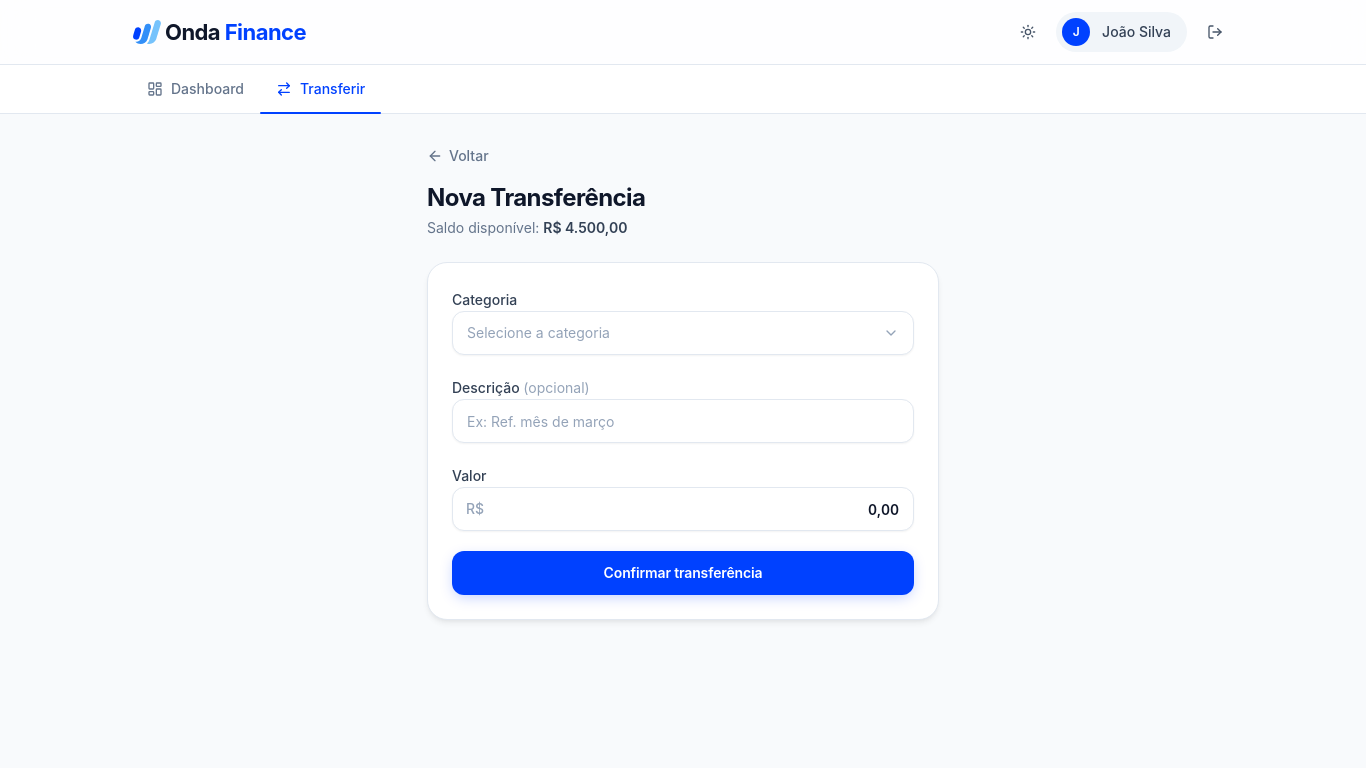
Test: Transfer Page › should show error for insufficient balance
# Select category
Step 1. Click the dropdown labelled "Selecione a categoria" → (538, 332), box [452, 311, 914, 355]
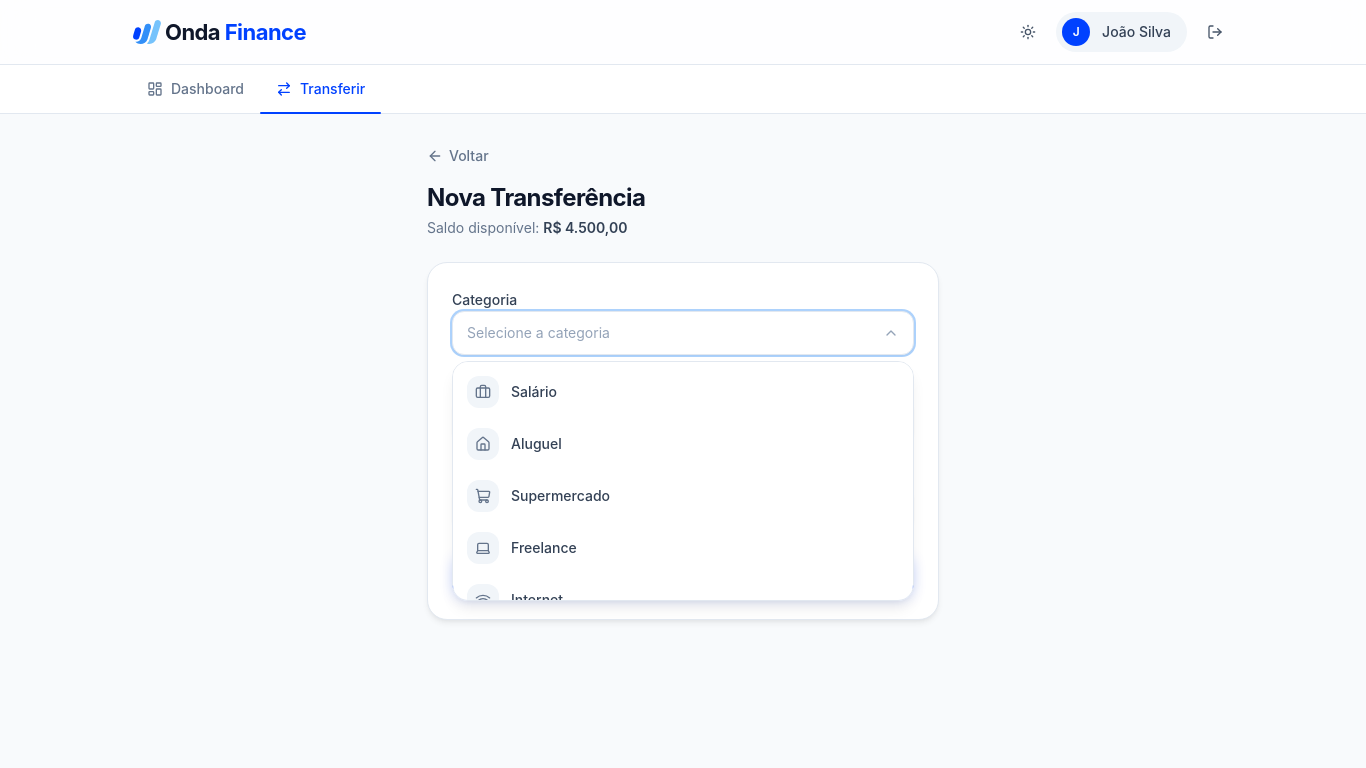
Step 2. Click the option "Supermercado" → (538, 496), box [467, 480, 610, 512]
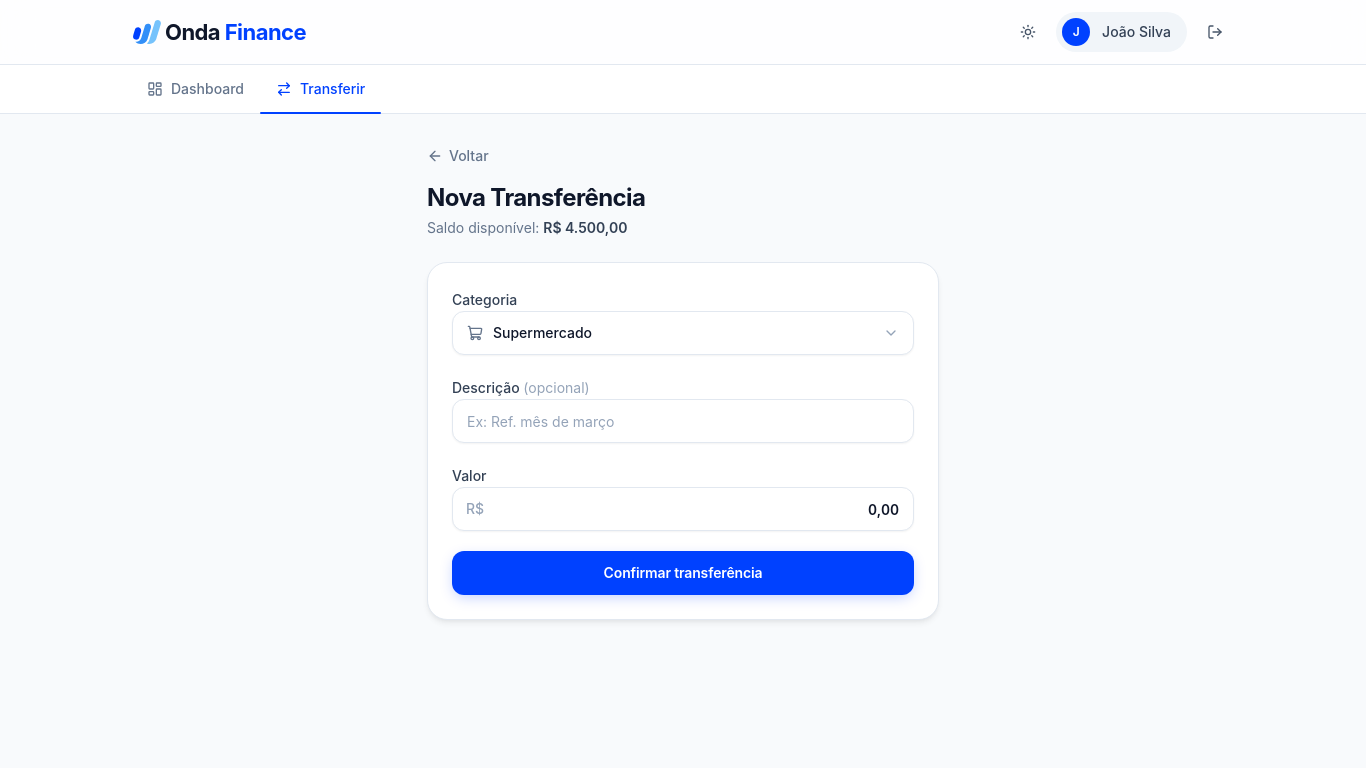
# Enter amount
Step 3. Click the field labelled "Valor" → (683, 509), box [452, 487, 914, 531]
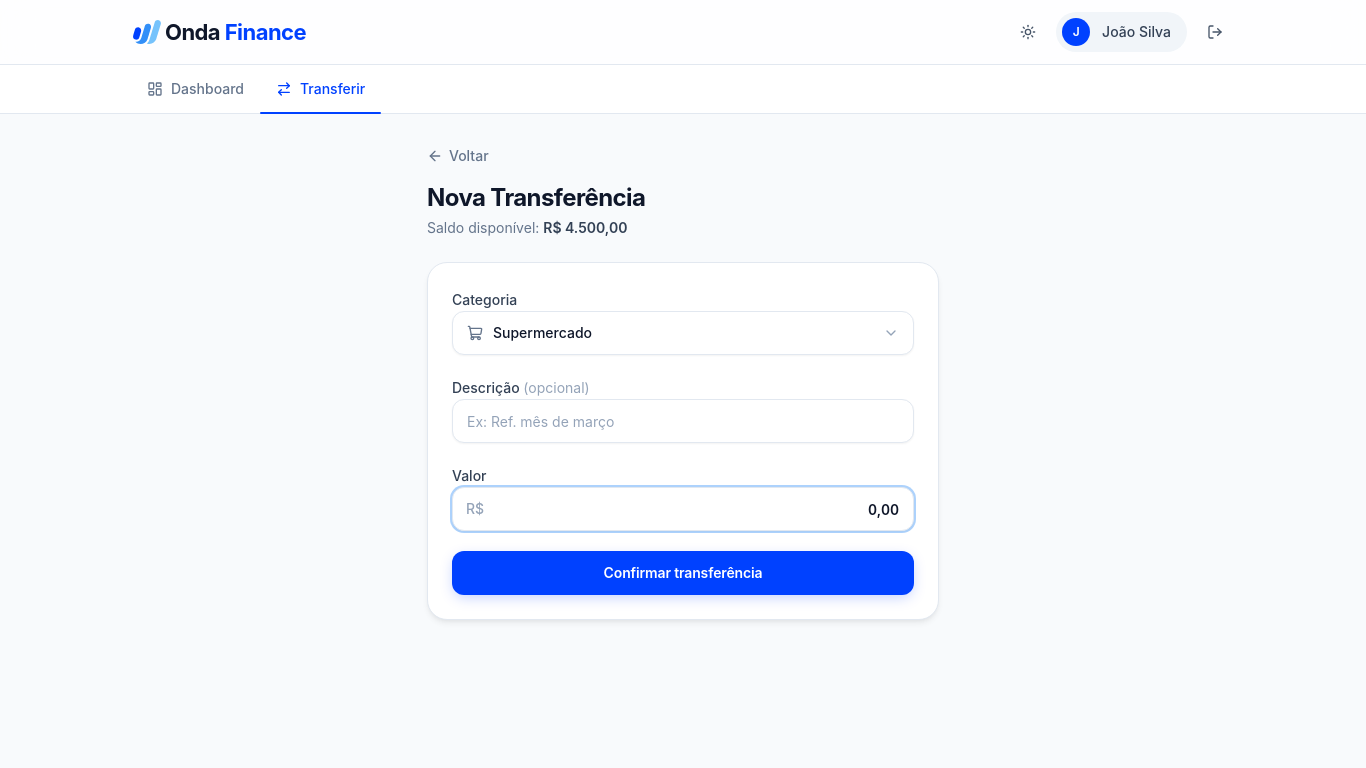
Step 4. Type keys "5000000"
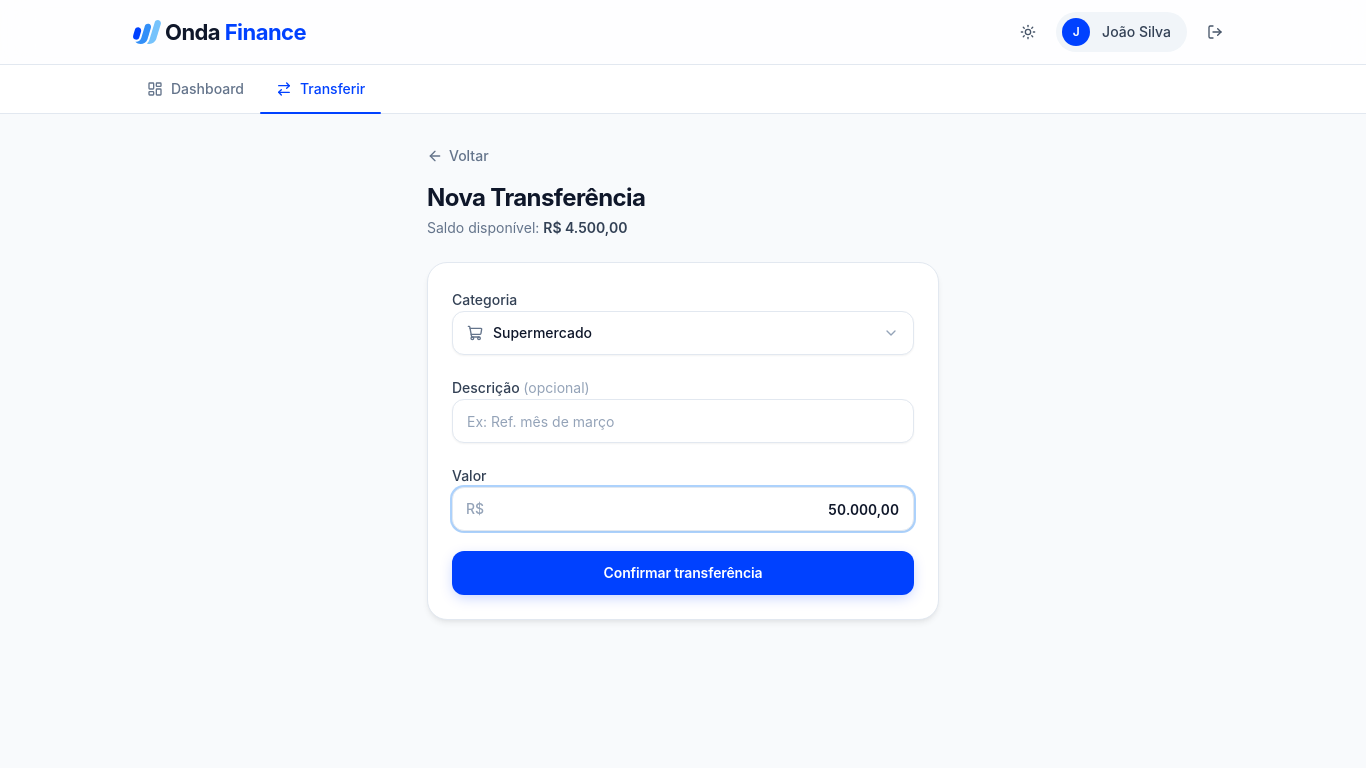
Step 5. Click the button "Confirmar transferência" → (683, 573), box [452, 551, 914, 595]
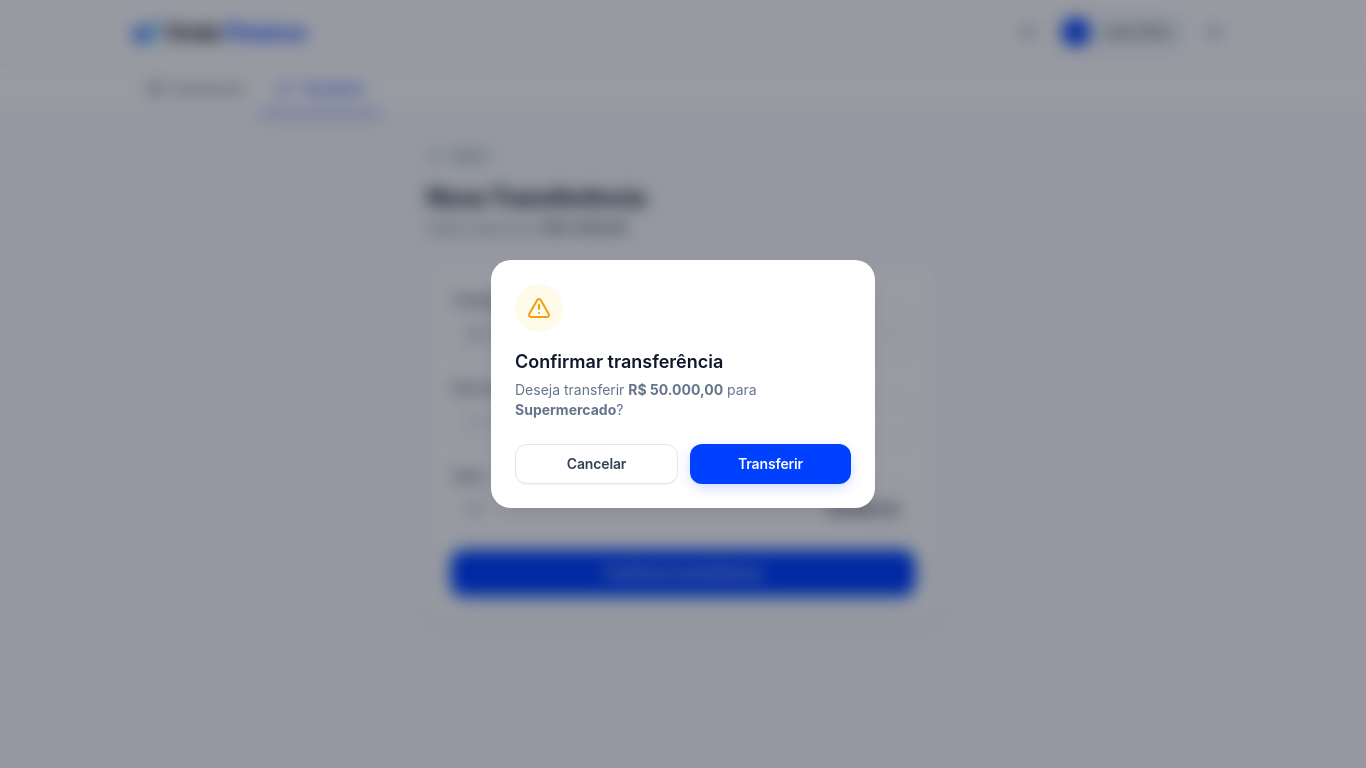
Expected: the button "Transferir" is shown
Step 6. Click the button "Transferir" → (770, 464), box [690, 444, 851, 484]
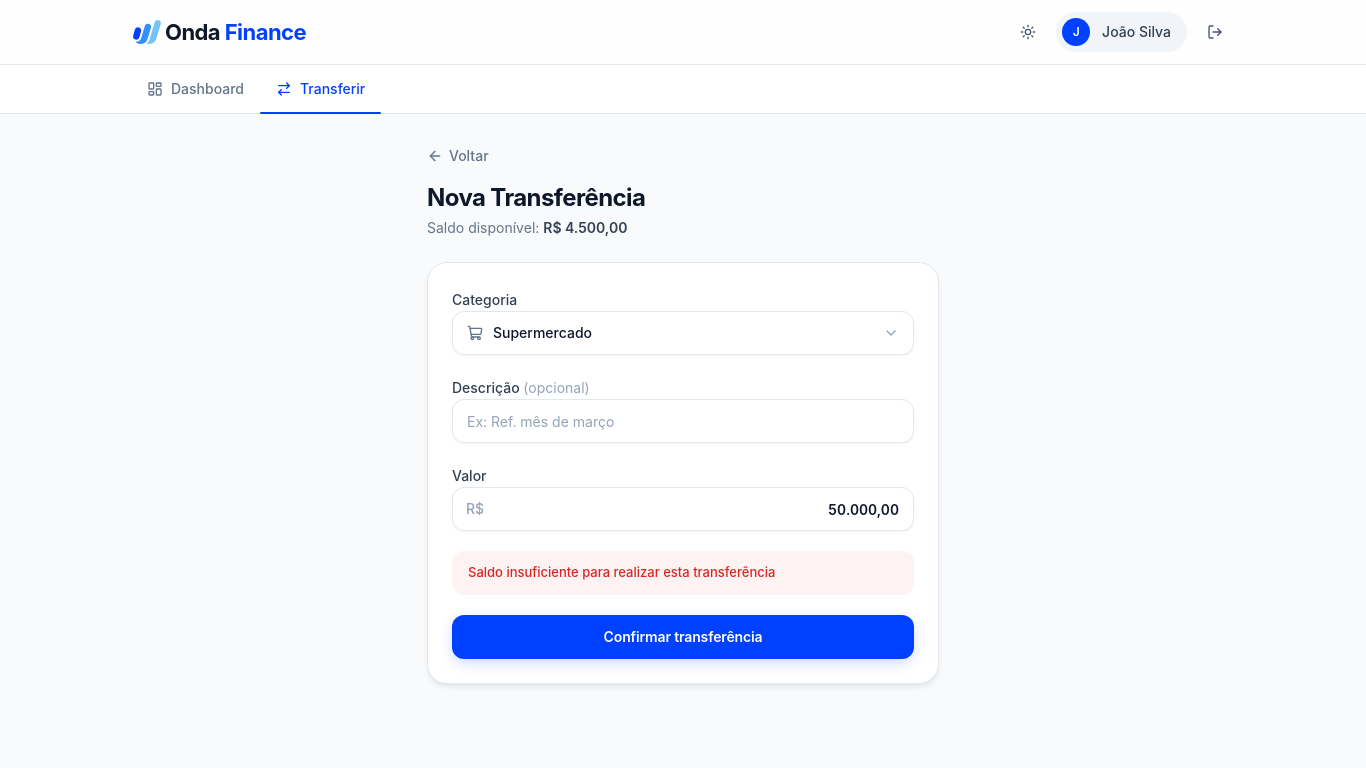
Expected: the text "Saldo insuficiente para realizar esta transferência" is shown, [468, 564, 775, 580]
